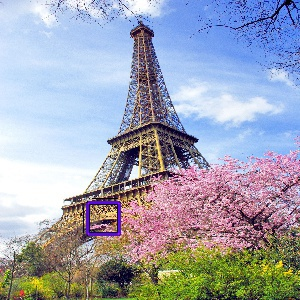square: (84, 199, 123, 237)
